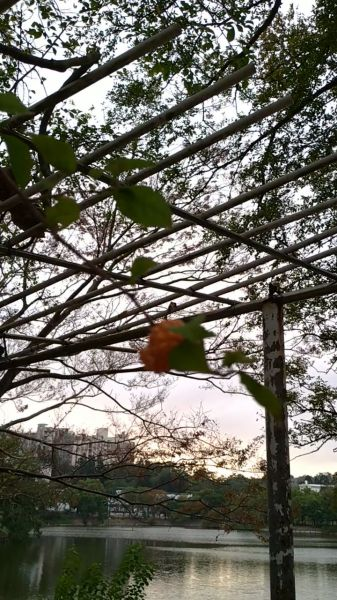eggs: (133, 311, 201, 379)
